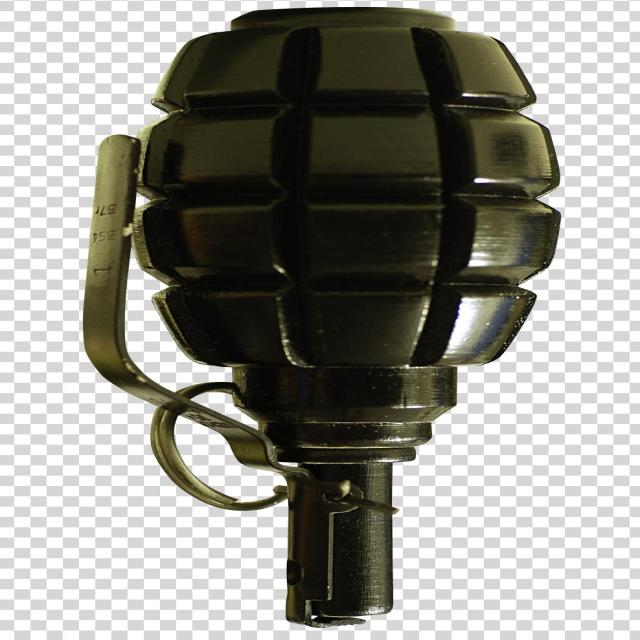grenade: (81, 8, 565, 629)
